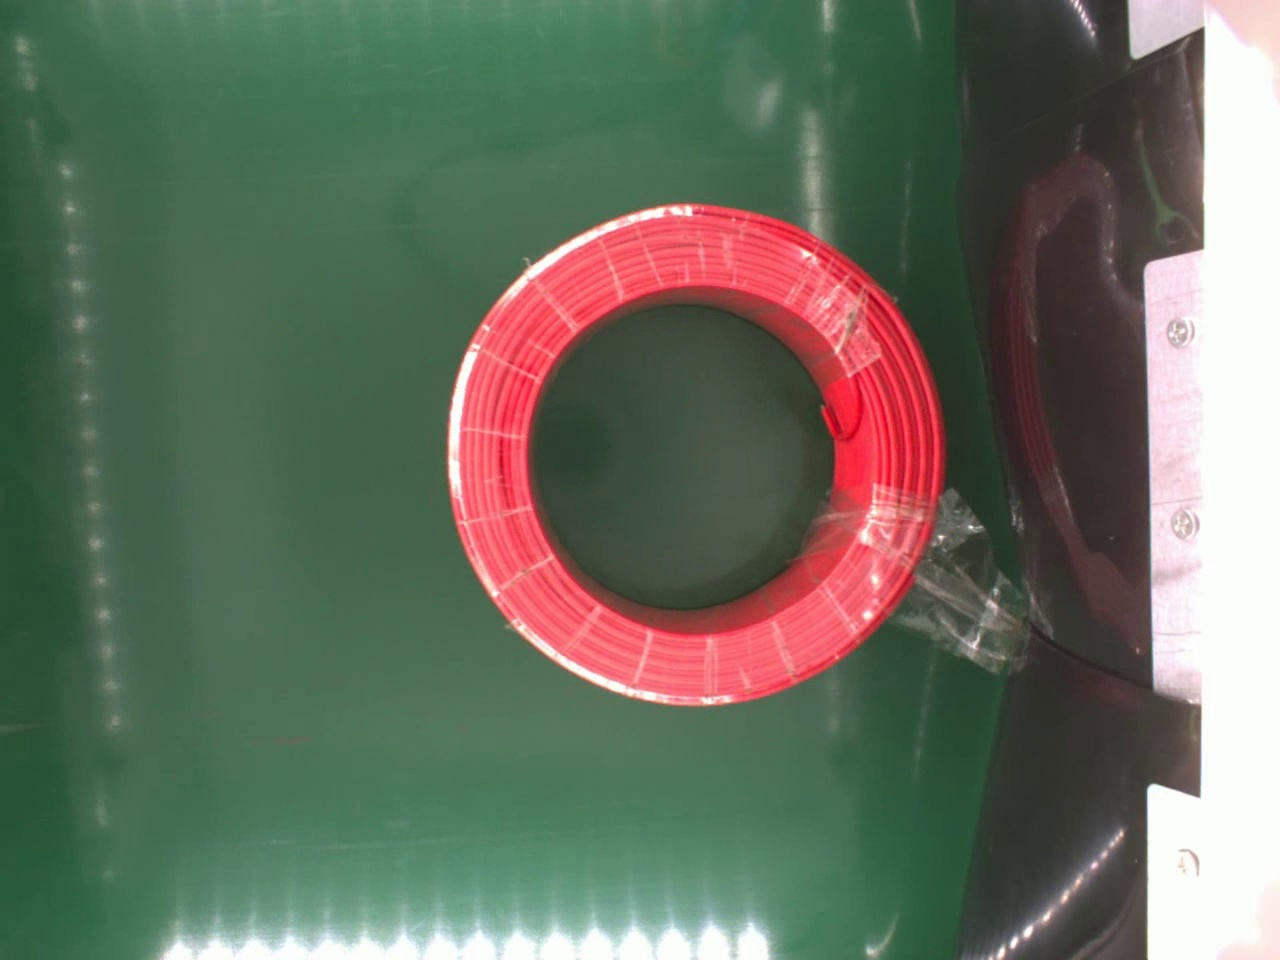red: (440, 199, 951, 708)
